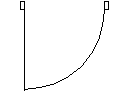door: (22, 11, 109, 91)
